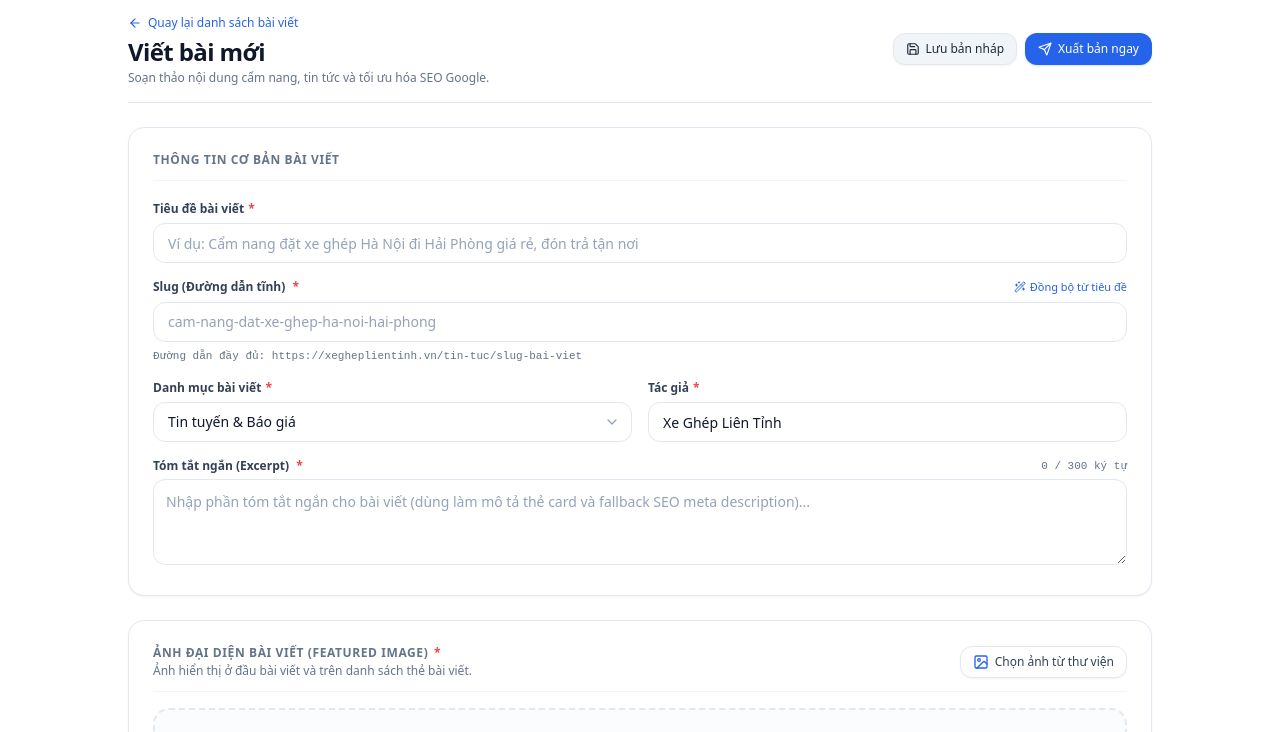
it: Articles Module (Task T112) › ArticleForm Component › tự động sinh slug từ tiêu đề khi tạo mới bài viết
Replace the text in the field with test id "article-title-input" with "Kinh nghiệm đặt xe ghép giá rẻ" at (640, 243), box [153, 223, 1127, 263]
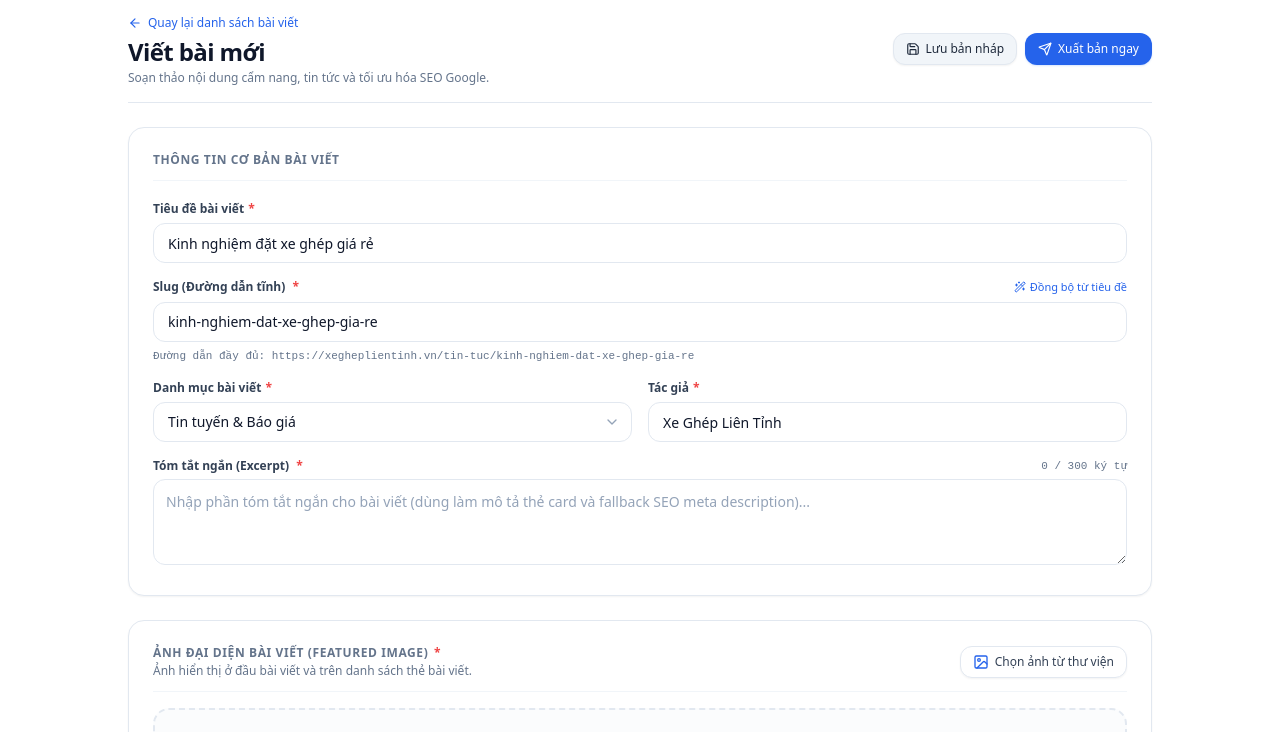
Expected: the field with test id "article-slug-input" holds "kinh-nghiem-dat-xe-ghep-gia-re", [153, 302, 1127, 342]
